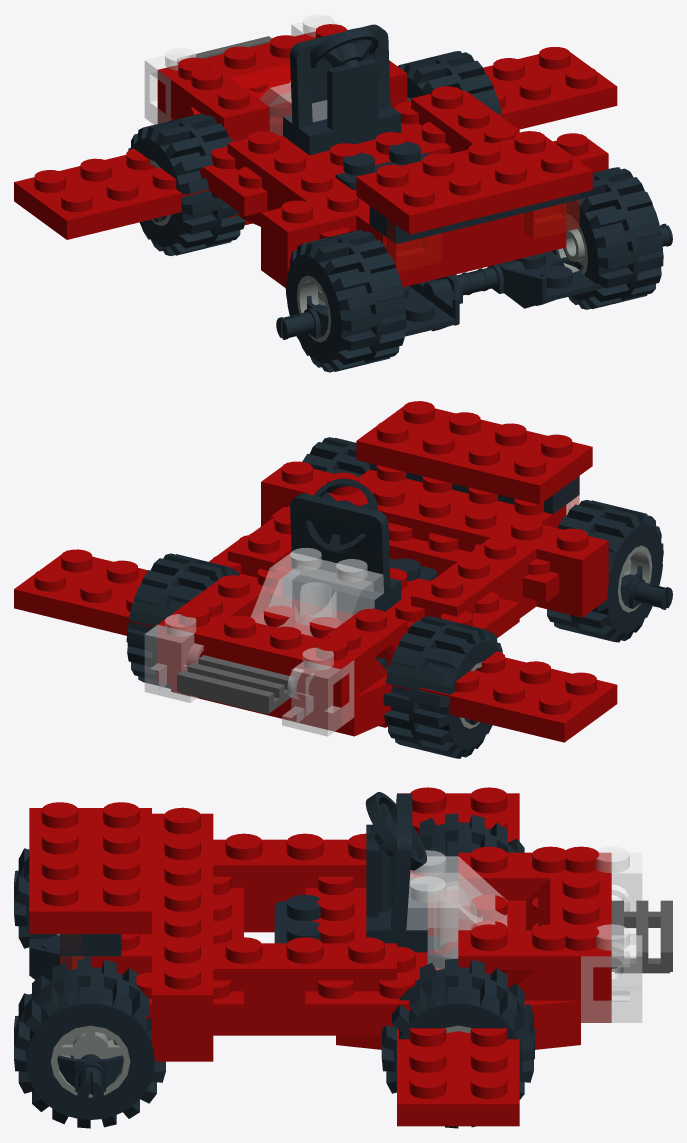
Rendered from 001-generated_sports_car.glb.
The picture shows the model from 3 angles, top to bottom: view 1: azimuth 30°, elevation 25°; view 2: azimuth 150°, elevation 25°; view 3: azimuth 270°, elevation 25°; orthographic projection. The views are drawn at different scales.
Visible parts, largest first — view 1: 87697.dat (×4), 52036.dat, 3010.dat (×4), 3020.dat, 3037.dat (×2), 6157.dat (×2), 3795.dat, 4079.dat, 3829a.dat, 3788.dat, 3070b.dat (×2), 4070.dat (×2) (+4 smaller); view 2: 87697.dat (×4), 3010.dat (×4), 52036.dat, 3037.dat (×2), 3020.dat, 3795.dat (×2), 4070.dat (×2), 4079.dat, 3039.dat, 3788.dat, 2412b.dat, 3829a.dat (+4 smaller); view 3: 3010.dat (×4), 87697.dat (×4), 52036.dat, 3020.dat, 3037.dat (×2), 3795.dat (×2), 3788.dat, 4070.dat (×2), 3039.dat, 4079.dat, 6157.dat (×3), 3829a.dat (+4 smaller).
Part boxes in pixels (x1=…): 87697.dat (×4): x1=128, y1=51, x2=663, y2=372; 52036.dat: x1=14, y1=47, x2=617, y2=239; 3010.dat (×4): x1=227, y1=86, x2=608, y2=288; 3020.dat: x1=356, y1=131, x2=592, y2=234; 3037.dat (×2): x1=157, y1=24, x2=566, y2=287; 6157.dat (×2): x1=276, y1=223, x2=672, y2=339; 3795.dat: x1=199, y1=90, x2=519, y2=216; 4079.dat: x1=290, y1=24, x2=429, y2=189; 3829a.dat: x1=283, y1=58, x2=401, y2=155; 3788.dat: x1=171, y1=60, x2=407, y2=141; 3070b.dat (×2): x1=387, y1=200, x2=579, y2=272; 4070.dat (×2): x1=144, y1=14, x2=340, y2=124; 87697.dat (×4): x1=126, y1=437, x2=663, y2=758; 3010.dat (×4): x1=227, y1=461, x2=608, y2=618; 52036.dat: x1=14, y1=549, x2=617, y2=742; 3037.dat (×2): x1=157, y1=465, x2=566, y2=726; 3020.dat: x1=356, y1=401, x2=592, y2=504; 3795.dat (×2): x1=209, y1=506, x2=559, y2=638; 4070.dat (×2): x1=144, y1=614, x2=354, y2=736; 4079.dat: x1=290, y1=493, x2=436, y2=609; 3039.dat: x1=251, y1=548, x2=383, y2=636; 3788.dat: x1=184, y1=575, x2=407, y2=697; 2412b.dat: x1=177, y1=655, x2=294, y2=714; 3829a.dat: x1=283, y1=571, x2=401, y2=614; 3010.dat (×4): x1=152, y1=807, x2=396, y2=1061; 87697.dat (×4): x1=14, y1=813, x2=534, y2=1128; 52036.dat: x1=336, y1=787, x2=580, y2=1126; 3020.dat: x1=29, y1=802, x2=151, y2=933; 3037.dat (×2): x1=90, y1=846, x2=611, y2=1022; 3795.dat (×2): x1=136, y1=870, x2=427, y2=1026; 3788.dat: x1=458, y1=846, x2=580, y2=1000; 4070.dat (×2): x1=581, y1=846, x2=642, y2=1022; 3039.dat: x1=406, y1=850, x2=507, y2=970; 4079.dat: x1=274, y1=793, x2=412, y2=946; 6157.dat (×3): x1=29, y1=935, x2=457, y2=1105; 3829a.dat: x1=366, y1=821, x2=427, y2=952.
Bounding box in the file's own units: 0.096 × 0.0351 × 0.086.
